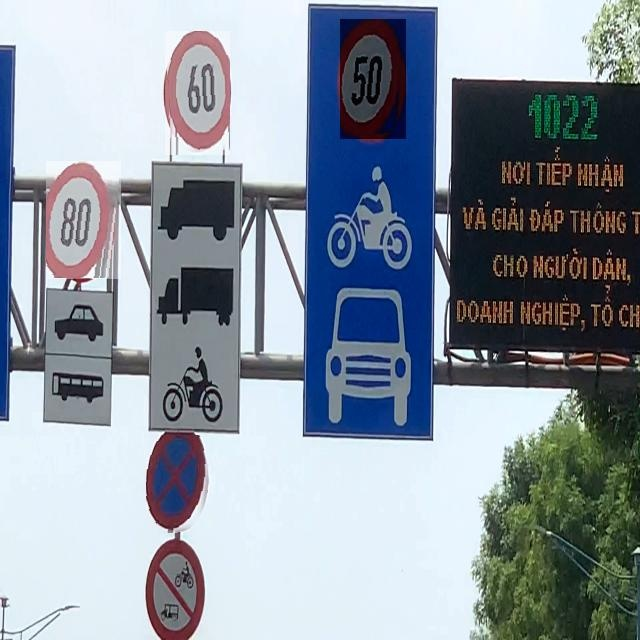bien_chi_dan: (46, 162, 121, 280), (165, 31, 230, 155), (340, 19, 406, 139), (146, 435, 212, 536)
